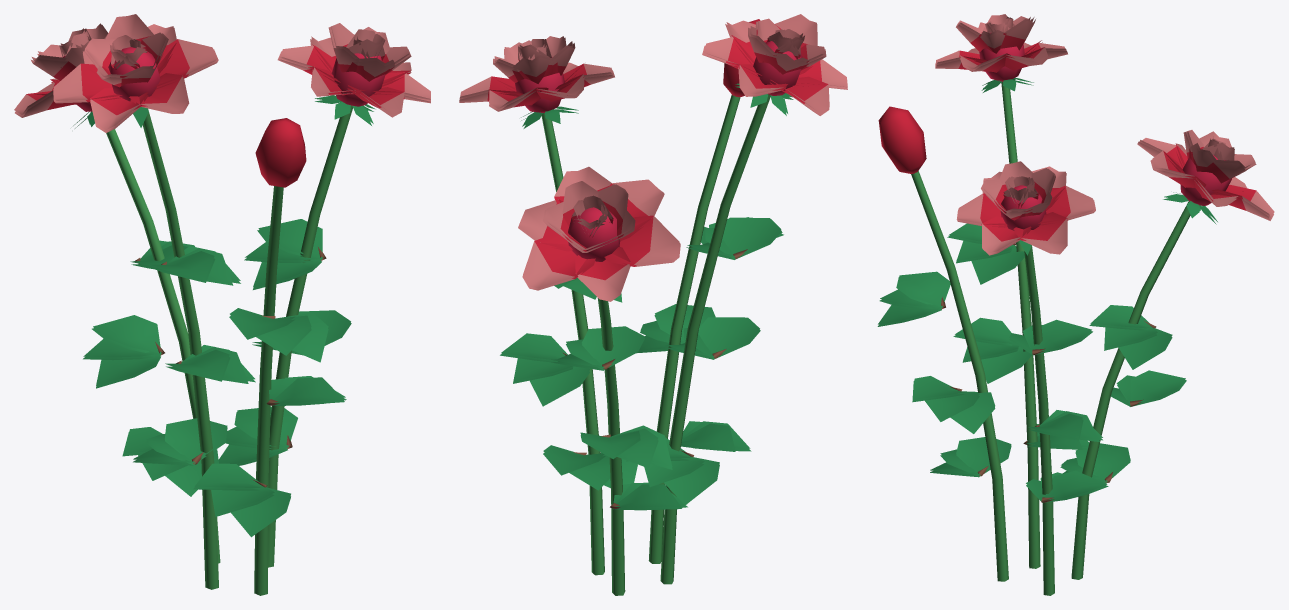
Rendered from ing_rose_red.gltf.
3 renders of one model, left to right at view 1: azimuth 30°, elevation 25°; view 2: azimuth 150°, elevation 25°; view 3: azimuth 270°, elevation 25°, orthographic. The views are drawn at different scales.
Visible parts, largest first — view 1: ing_rose_red; view 2: ing_rose_red; view 3: ing_rose_red.
Boxes of the visible parts, x1=… form: ing_rose_red: x1=14, y1=14, x2=430, y2=595; ing_rose_red: x1=459, y1=14, x2=847, y2=595; ing_rose_red: x1=877, y1=14, x2=1274, y2=595.
Size of what is drawn, in the model's own units: 0.4097 by 0.6324 by 0.4432.
